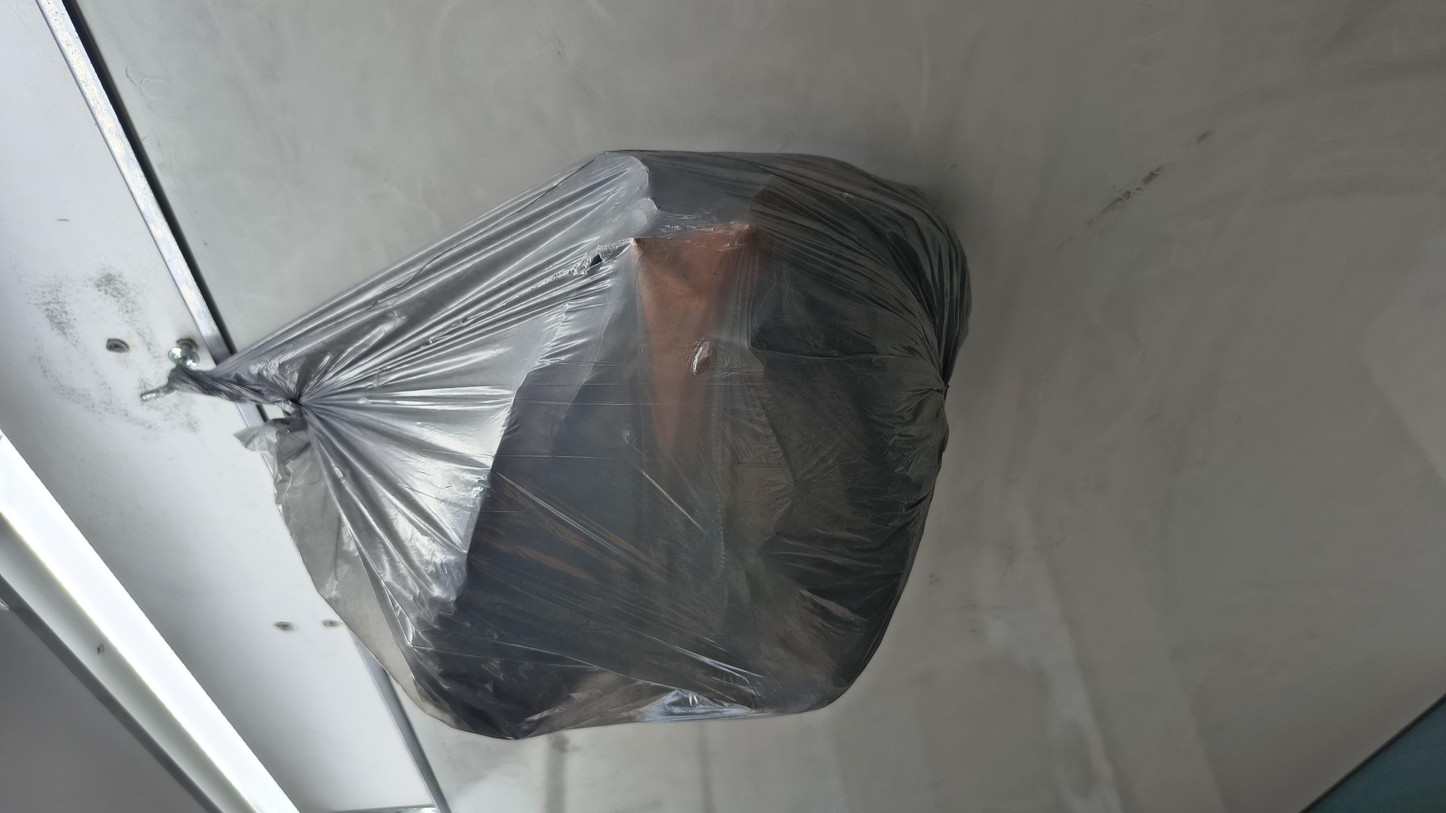Garbage: (107, 127, 1205, 574)
